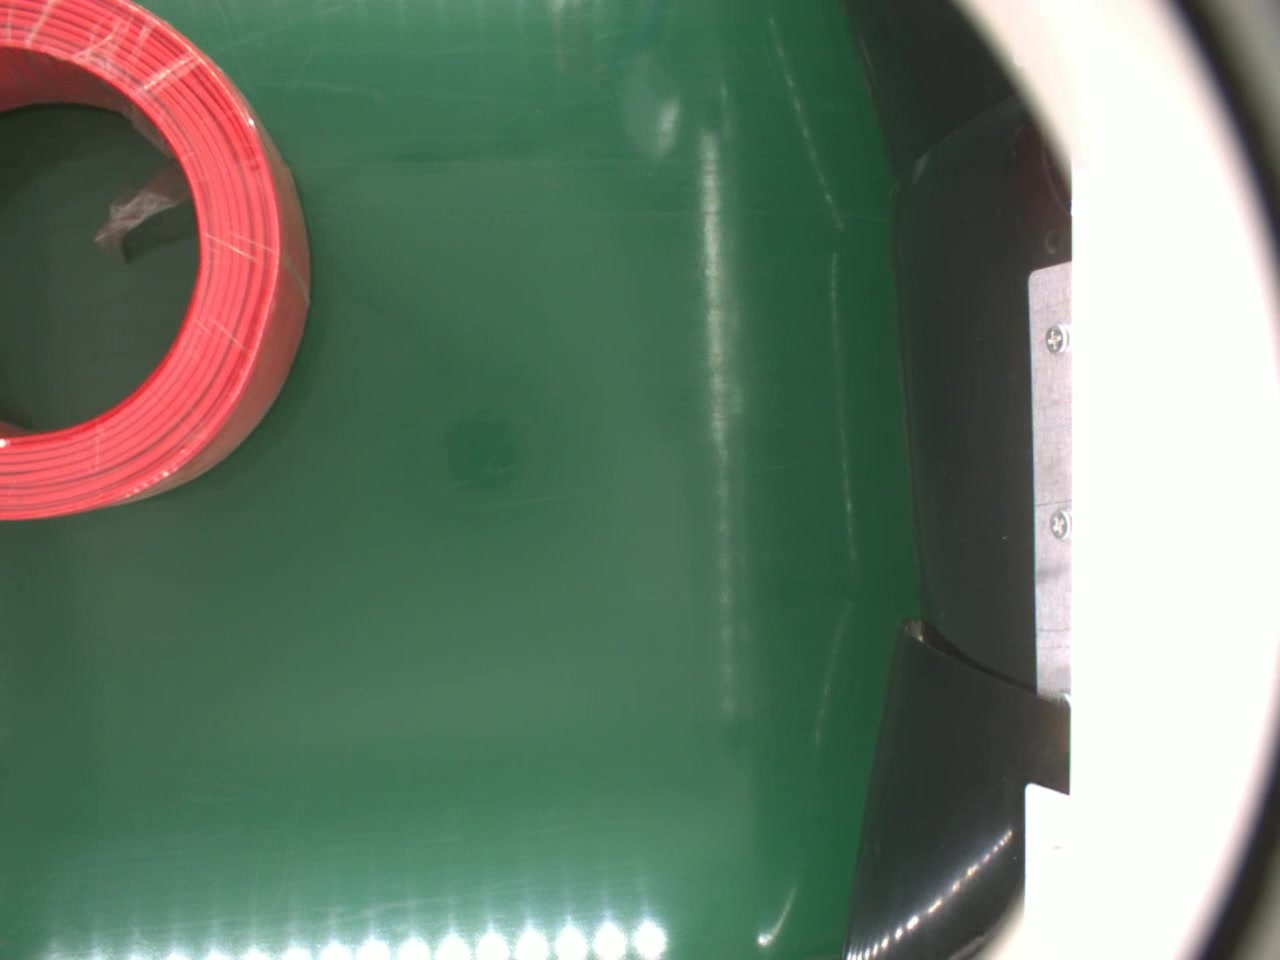red: (0, 1, 311, 523)
